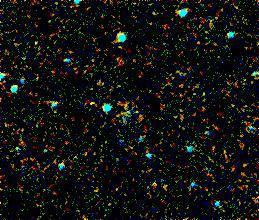star: (76, 90, 106, 120)
